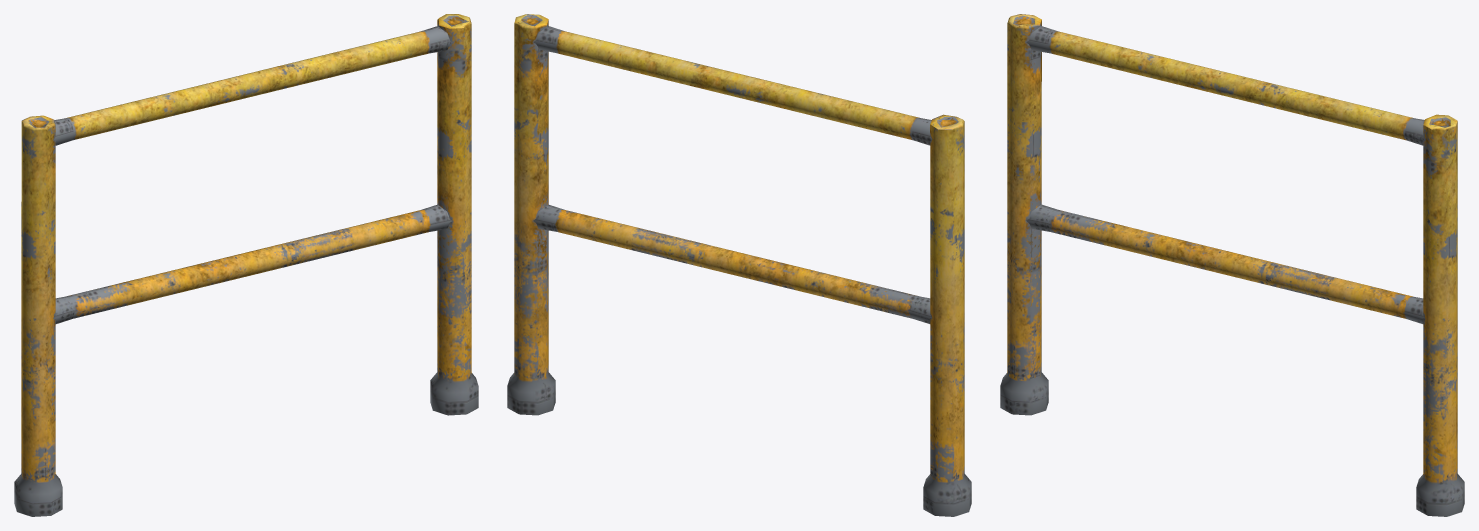
The picture shows the model from 3 angles, left to right: view 1: azimuth 30°, elevation 25°; view 2: azimuth 150°, elevation 25°; view 3: azimuth 330°, elevation 25°; orthographic projection.
Parts seen in each view (by area): view 1: valla.001; view 2: valla.001; view 3: valla.001.
Boxes of the visible parts, left/top/right/bottom form: valla.001: left=14, top=14, right=478, bottom=516; valla.001: left=507, top=14, right=971, bottom=516; valla.001: left=1000, top=14, right=1464, bottom=516.
Size of the model in its own units: 0.5627 by 0.4516 by 0.0529.
Materials: 1 (1 with a texture image).
